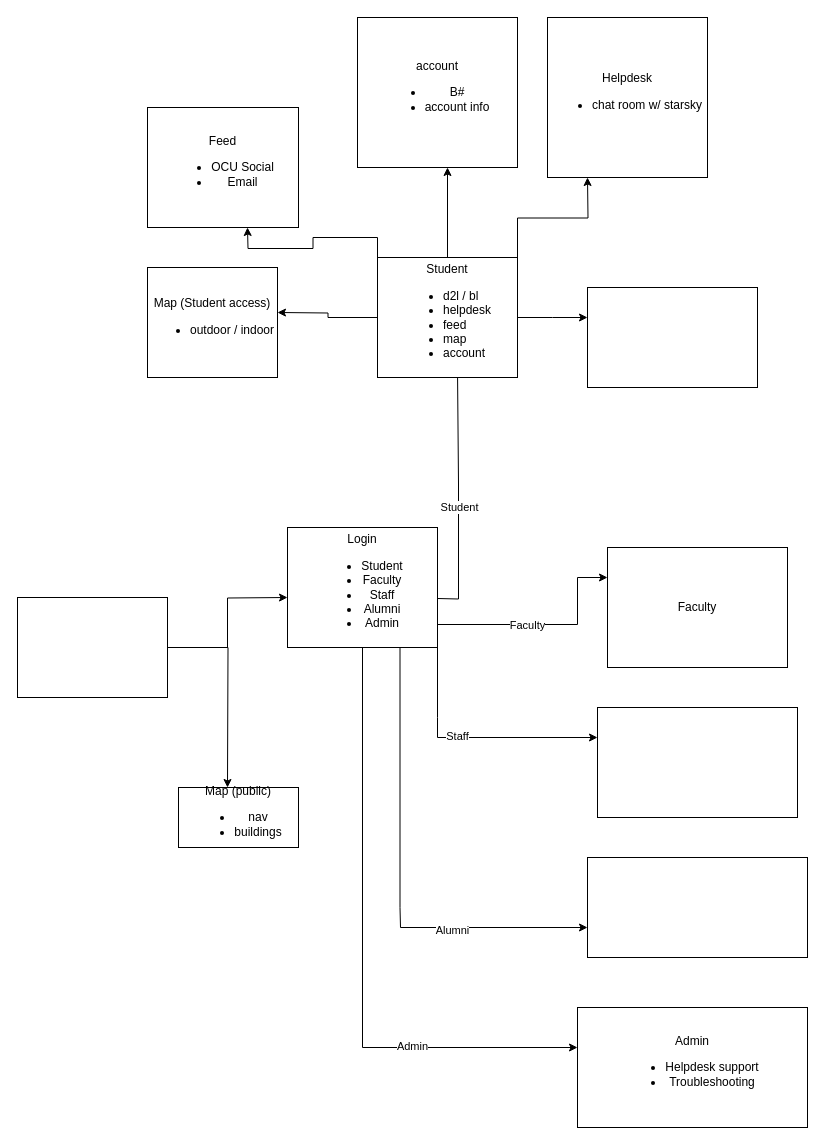
Image size: 825x1145. Some labels were removed from this diagram. The box of each missing label's shape, as (x1, y1, x2, y2) in pixels:
Alumni QR code login: (586, 856, 808, 958)
d2l / bl Schedule redirects to maps for directions: (586, 286, 758, 388)
Initial Screen Map Login Feed: (16, 596, 168, 698)
Staff Analytics access: (596, 706, 798, 818)
